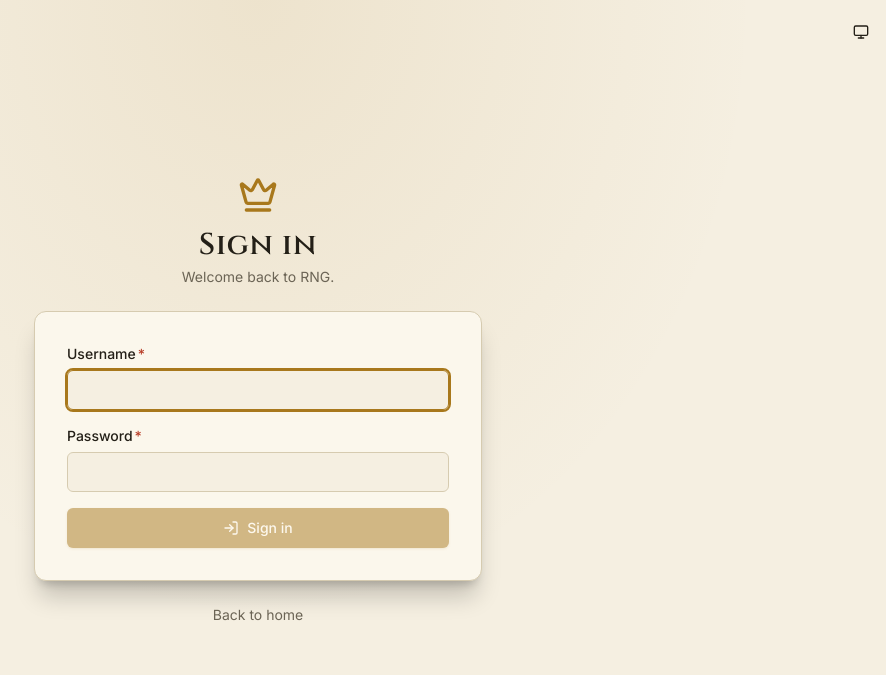
Test case: LoginPage › shows a server error
This screenshot has width=886, height=675.
Type "admin" into the field labelled "Username*".
click(258, 390); type("admin")  # box 67,370 -> 449,410
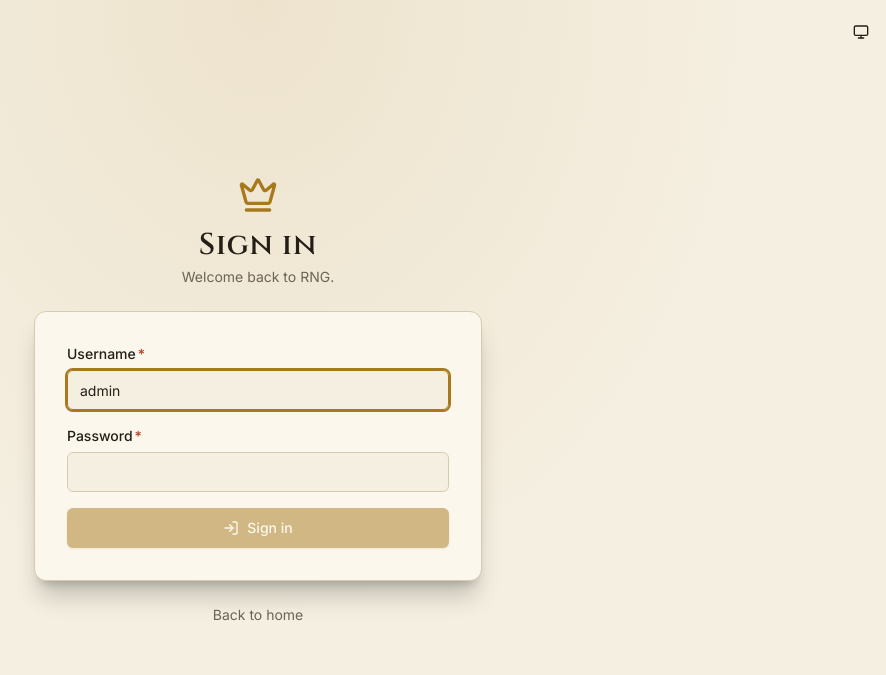
Type "password" into the password field labelled "Password*".
click(258, 472); type("password")  # box 67,452 -> 449,492
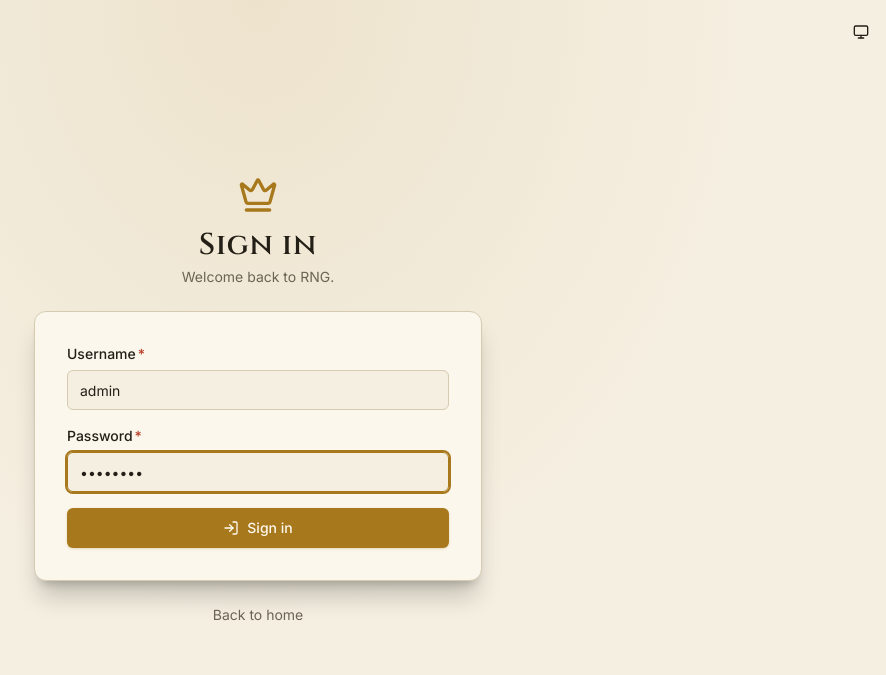
Click the button "Sign in".
click(258, 528)  # box 67,508 -> 449,548
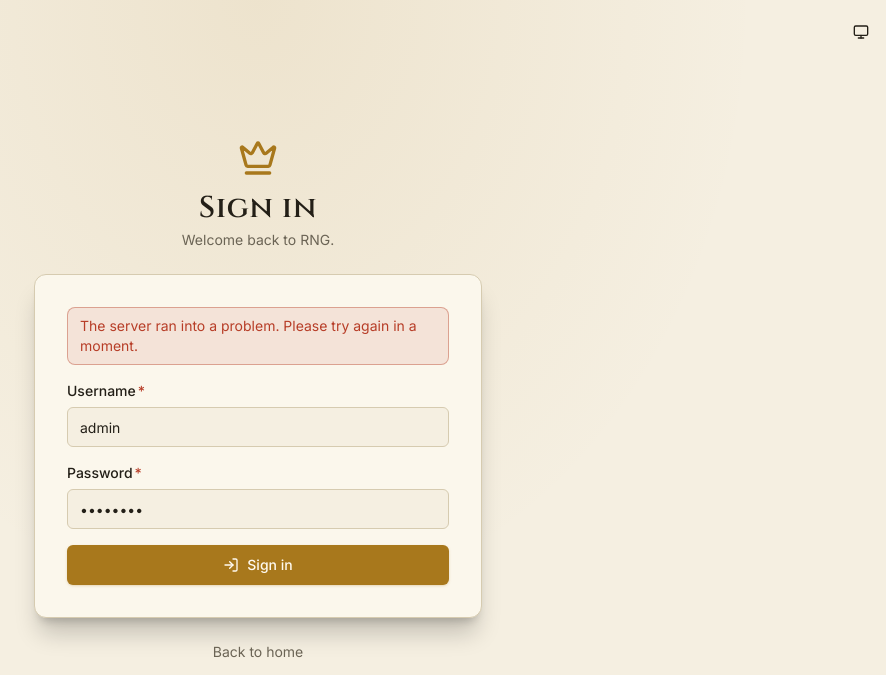
Now the message shows "server ran into a problem", box 80,317 -> 417,354
